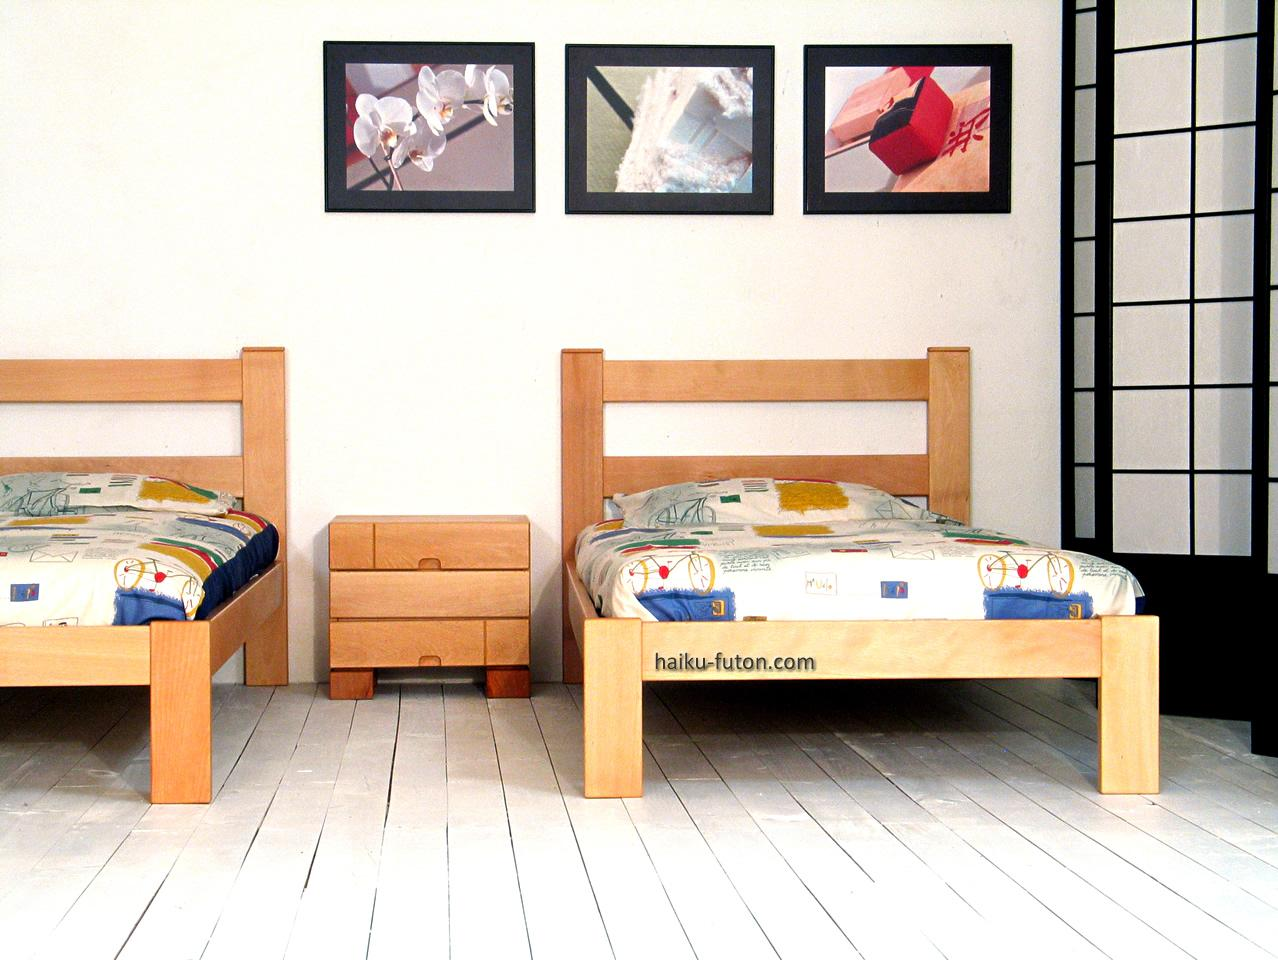bed: (544, 334, 1186, 806)
